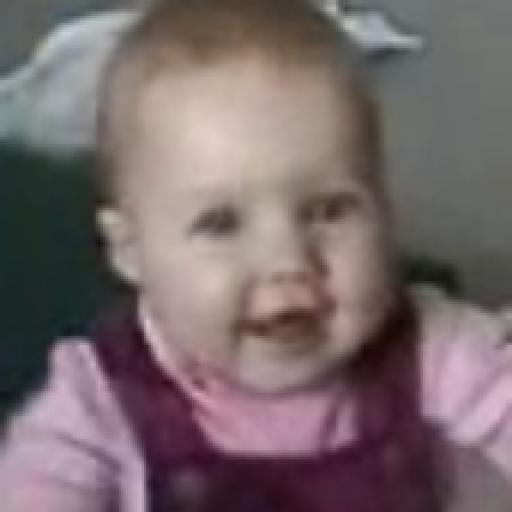Autism: (94, 32, 414, 433)
